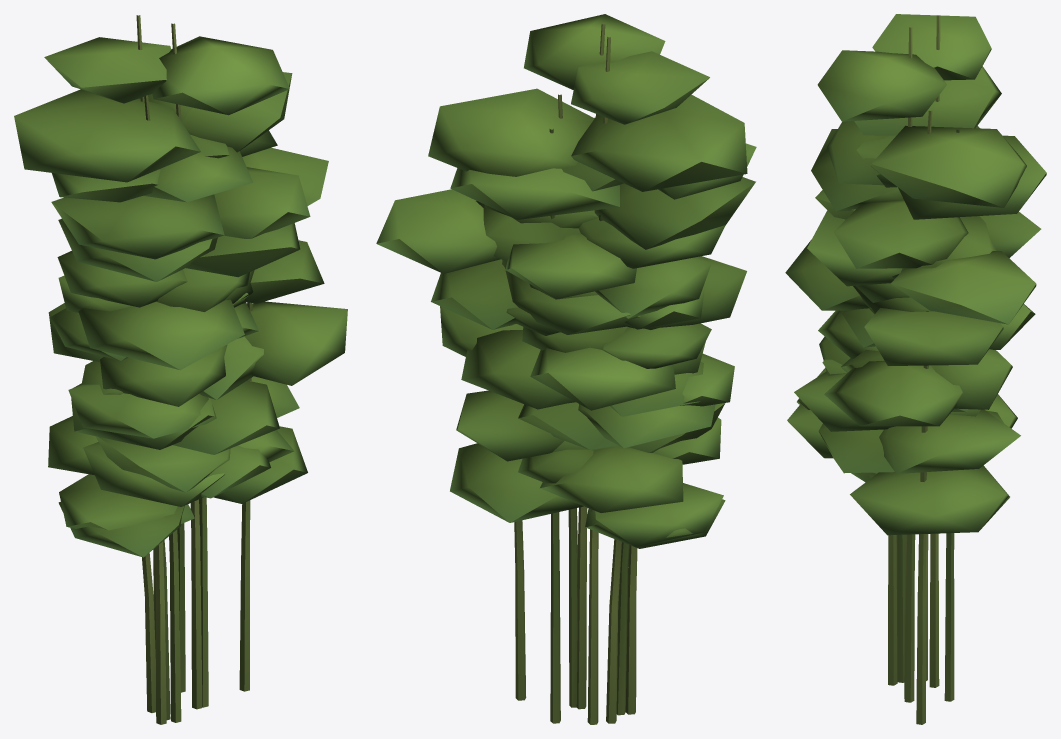
File: bamboo_clump.glb
The picture shows the model from 3 angles, left to right: view 1: azimuth 30°, elevation 25°; view 2: azimuth 150°, elevation 25°; view 3: azimuth 270°, elevation 25°; orthographic projection. The views are drawn at different scales.
Parts seen in each view (by area): view 1: bamboo_clump_mesh; view 2: bamboo_clump_mesh; view 3: bamboo_clump_mesh.
Part boxes in pixels (<box>): bamboo_clump_mesh: <box>14,15,347,724</box>; bamboo_clump_mesh: <box>376,14,756,724</box>; bamboo_clump_mesh: <box>785,14,1046,724</box>.
Bounding box in the file's own units: 3.75 × 7.56 × 2.7.
